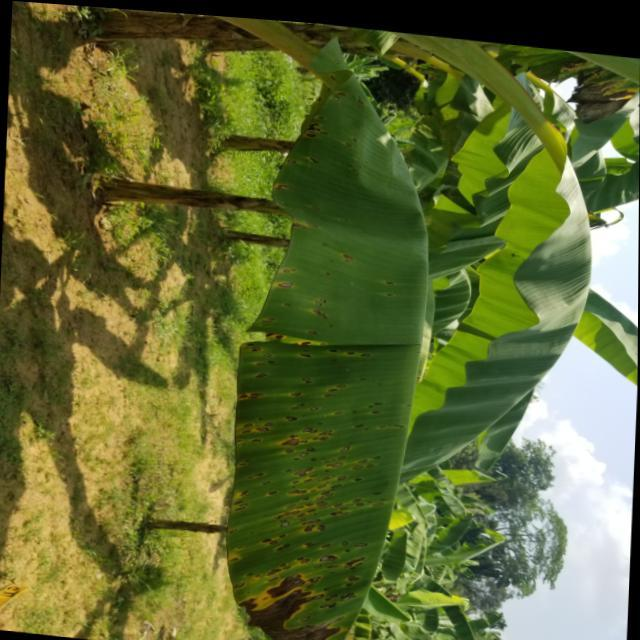Early_rust: (133, 92, 463, 640), (542, 45, 640, 214)
